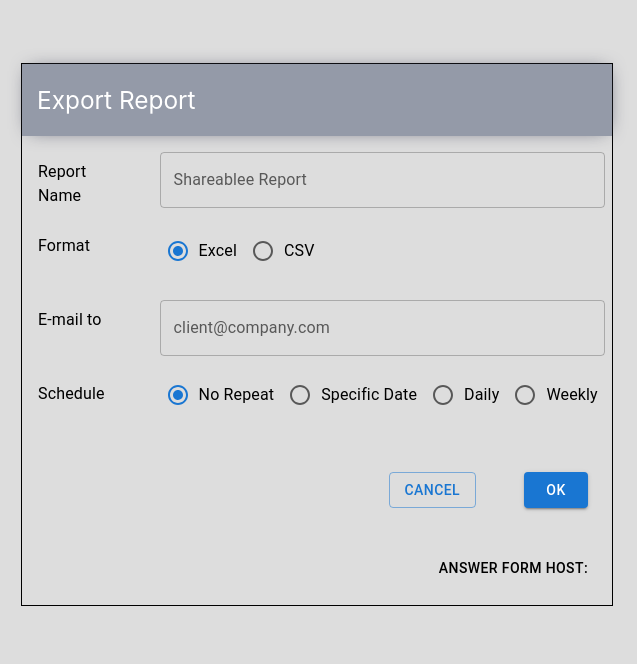
Scenario: <Modal /> Component! › change content to Weekly
Click the radio button labelled "Weekly" at [556, 394], box [513,382,598,406]
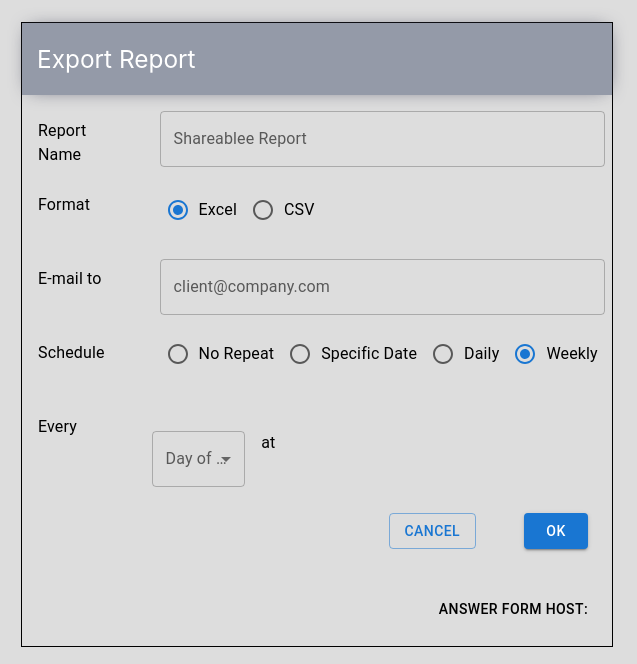
Expected: the text "Every" is shown, [38,416,77,436]
